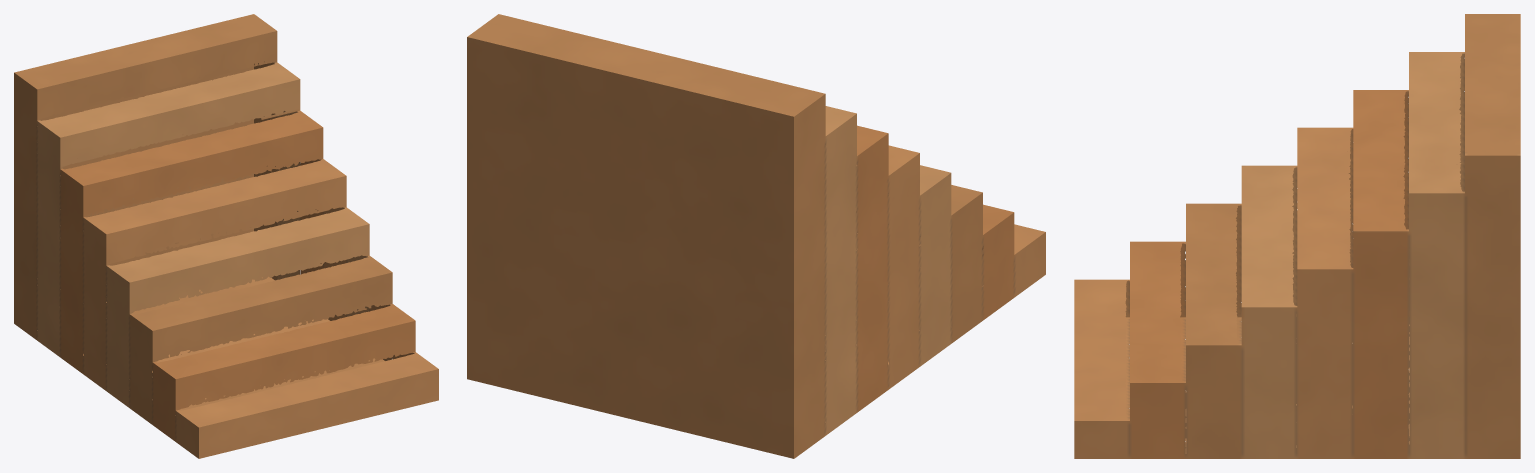
3 renders of one model, left to right at view 1: azimuth 30°, elevation 25°; view 2: azimuth 150°, elevation 25°; view 3: azimuth 270°, elevation 25°, orthographic. The views are drawn at different scales.
Visible parts, largest first — view 1: ss20-half-storey-sandstone-stair; view 2: ss20-half-storey-sandstone-stair; view 3: ss20-half-storey-sandstone-stair.
Boxes of the visible parts, left/top/right/bottom form: ss20-half-storey-sandstone-stair: left=14, top=14, right=438, bottom=458; ss20-half-storey-sandstone-stair: left=467, top=14, right=1045, bottom=458; ss20-half-storey-sandstone-stair: left=1074, top=14, right=1520, bottom=458.
Bounding box in the file's own units: 150 × 150 × 200.
